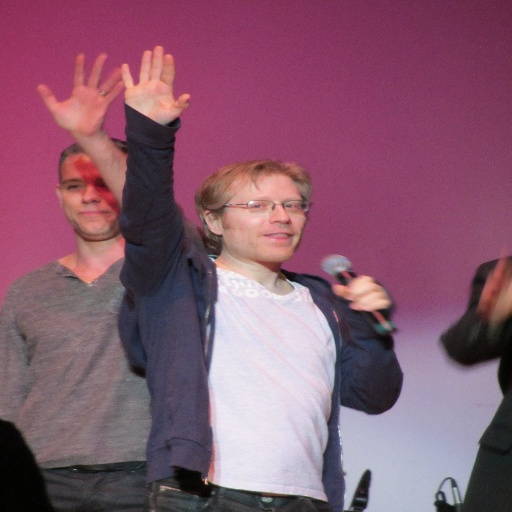hand: (34, 52, 122, 134), (101, 47, 187, 128), (330, 276, 392, 315), (476, 255, 511, 323)
